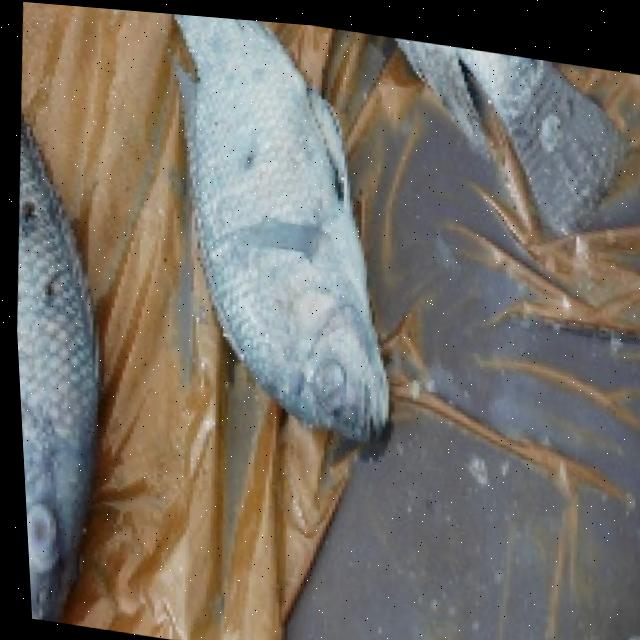Non-Fresh: (199, 22, 418, 458), (6, 144, 127, 630)
